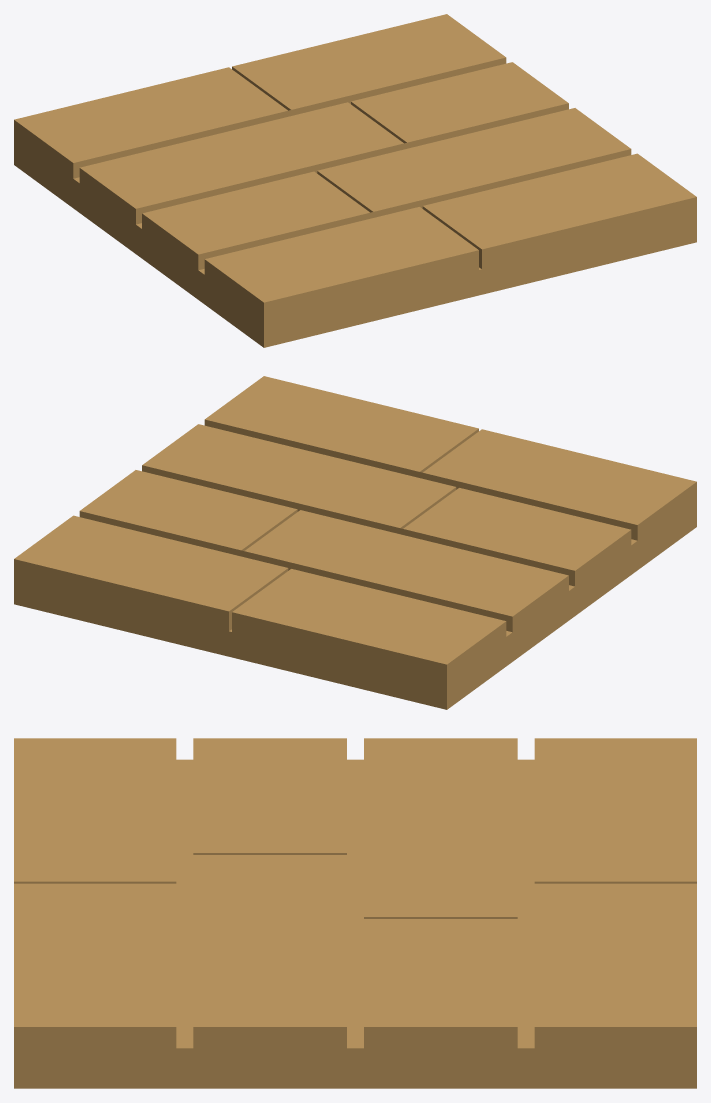
Rendered from SM_Palete.fbx.
3 views of the same model, one above another, from view 1: azimuth 30°, elevation 25°; view 2: azimuth 150°, elevation 25°; view 3: azimuth 270°, elevation 25° (orthographic). The views are drawn at different scales.
Parts seen in each view (by area): view 1: x67; view 2: x67; view 3: x67.
Boxes of the visible parts, bbox=[...] form: x67: bbox=[14, 14, 696, 347]; x67: bbox=[14, 376, 696, 709]; x67: bbox=[14, 738, 696, 1088].
Bounding box in the file's own units: 100 × 10 × 100.
